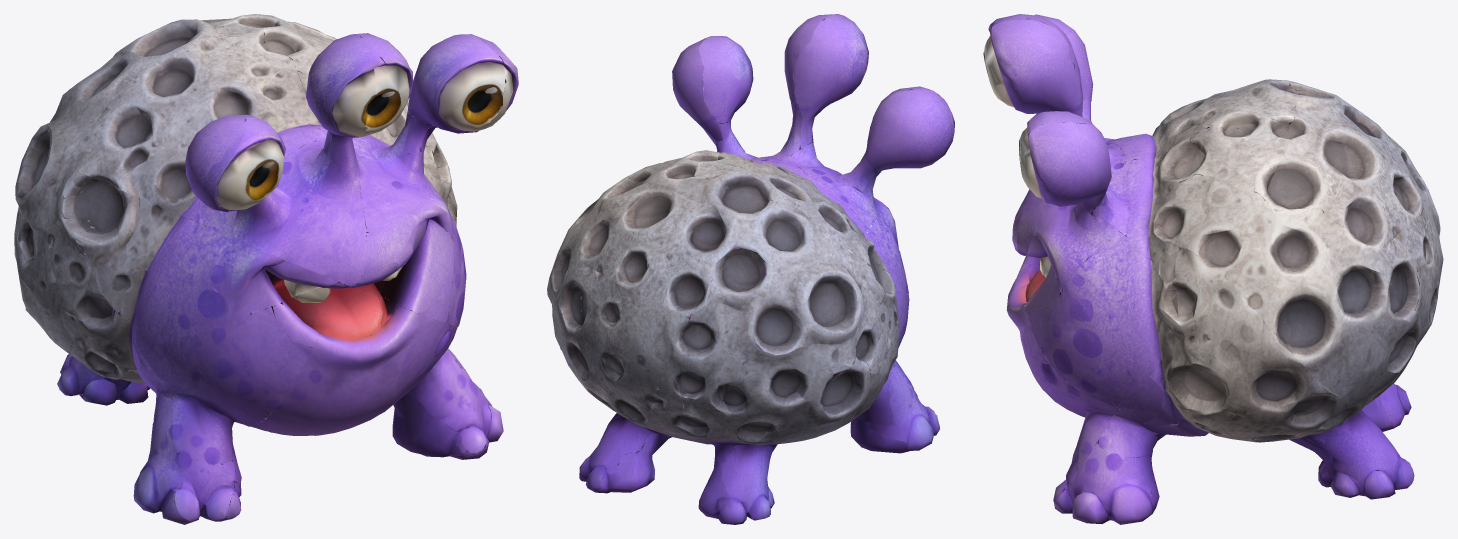
3 renders of one model, left to right at view 1: azimuth 30°, elevation 25°; view 2: azimuth 150°, elevation 25°; view 3: azimuth 270°, elevation 25°, orthographic. The views are drawn at different scales.
Visible parts, largest first — view 1: tripo_node_8a235abd-2a93-43d9-ba5d-ae717d94bcfb; view 2: tripo_node_8a235abd-2a93-43d9-ba5d-ae717d94bcfb; view 3: tripo_node_8a235abd-2a93-43d9-ba5d-ae717d94bcfb.
Part boxes in pixels (x1,y1,x2,y2): tripo_node_8a235abd-2a93-43d9-ba5d-ae717d94bcfb: (14,14,518,524); tripo_node_8a235abd-2a93-43d9-ba5d-ae717d94bcfb: (547,14,954,524); tripo_node_8a235abd-2a93-43d9-ba5d-ae717d94bcfb: (983,14,1443,524).
Size of the model in its own units: 0.8759 by 0.9801 by 0.9457.
1 material, 1 textured.
